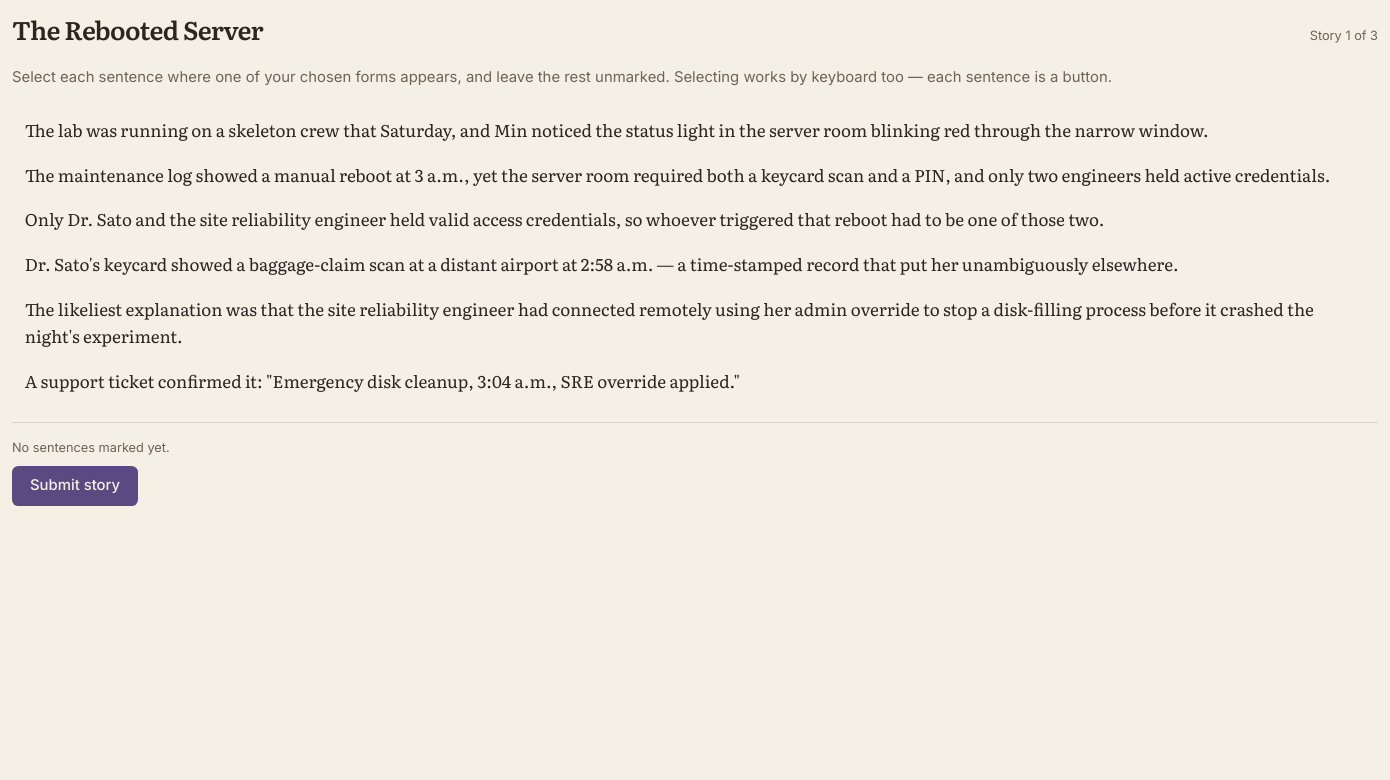
it: StoryReader › walks the full annotate flow: sentence → label → explanation → mark
This screenshot has width=1390, height=780.
Click the button "Only Dr. Sato and the site rel" at (695, 219), box [12,199,1378,239]
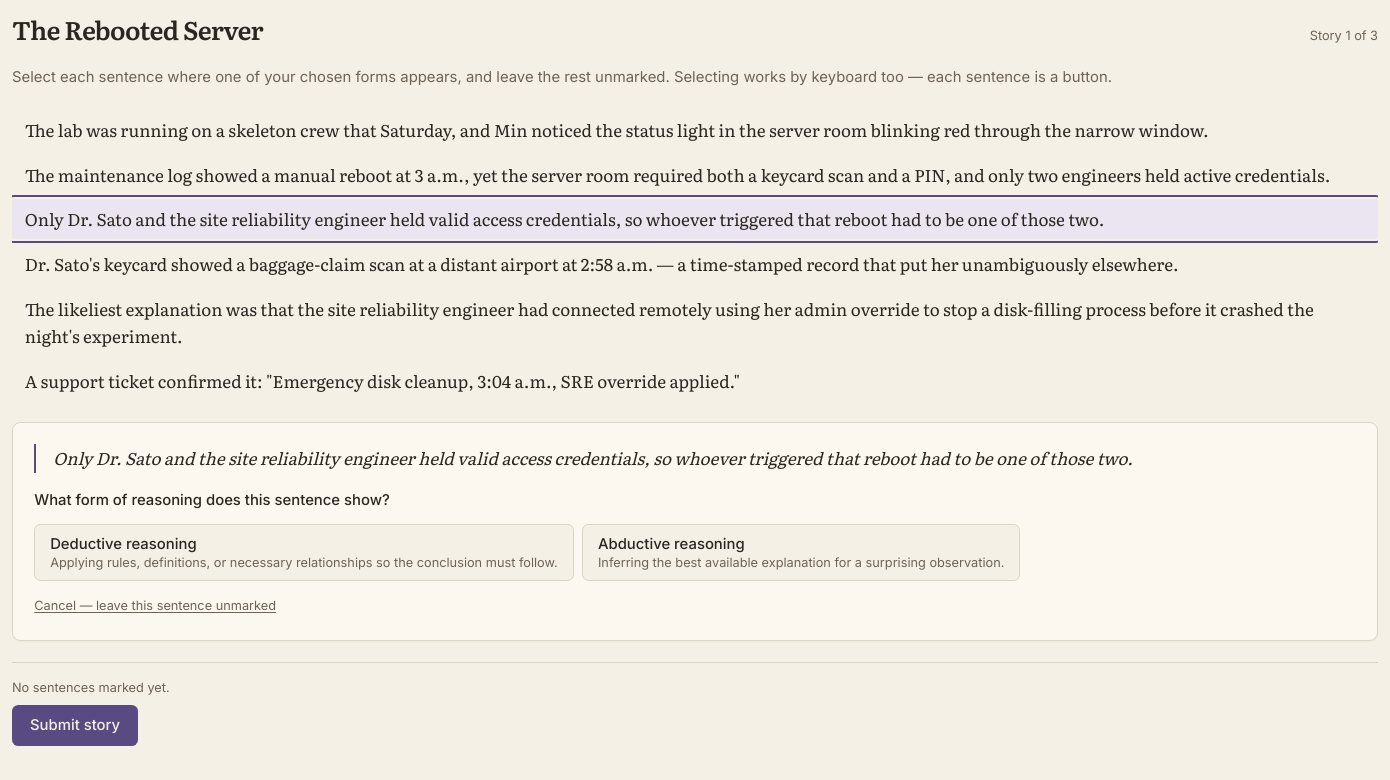
expect the text "What form of reasoning does this sentence show?" is shown: met, box [34,490,390,512]
Click the button "Deductive reasoning" at (304, 553), box [34,524,574,582]
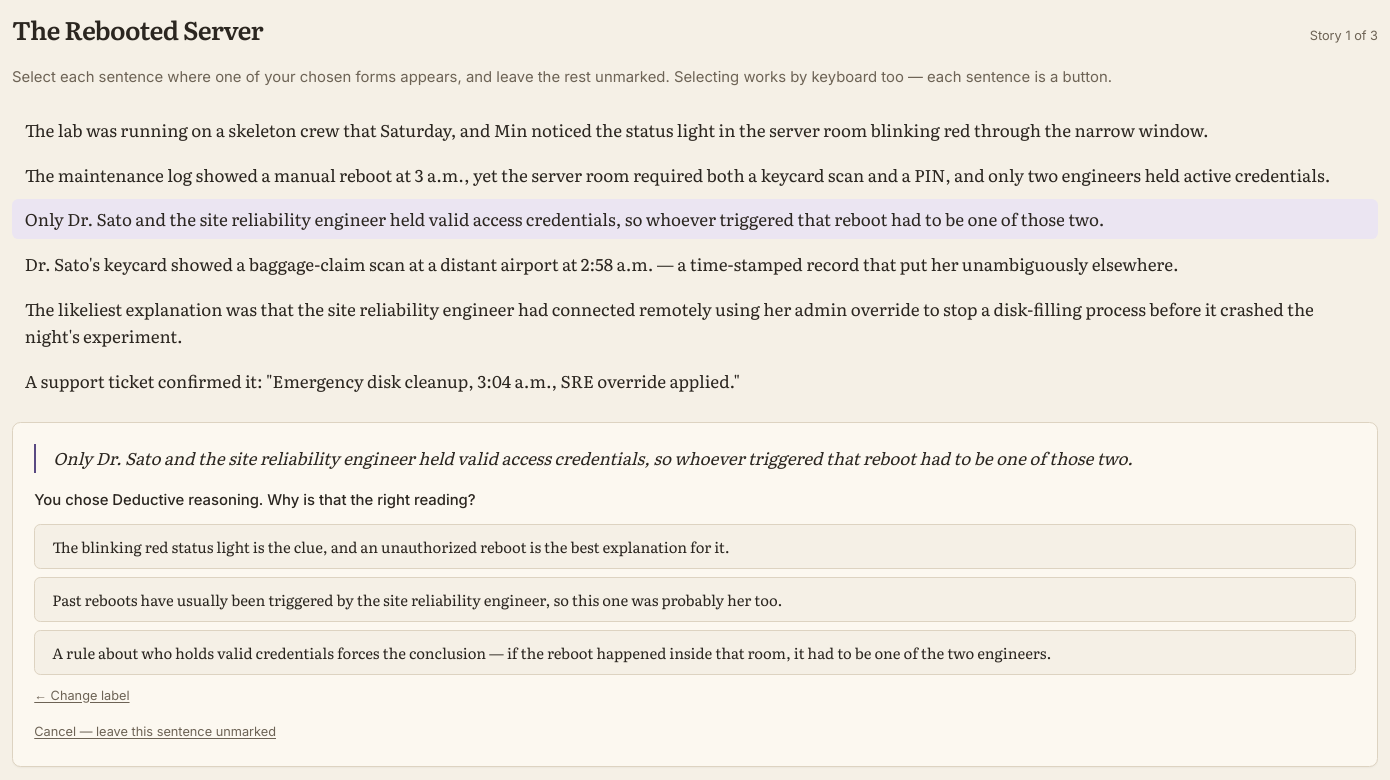
expect the text "Why is that the right reading" is shown: met, box [259,491,476,509]
Click the button "A rule about who holds valid c" at (695, 653), box [34,630,1356,675]
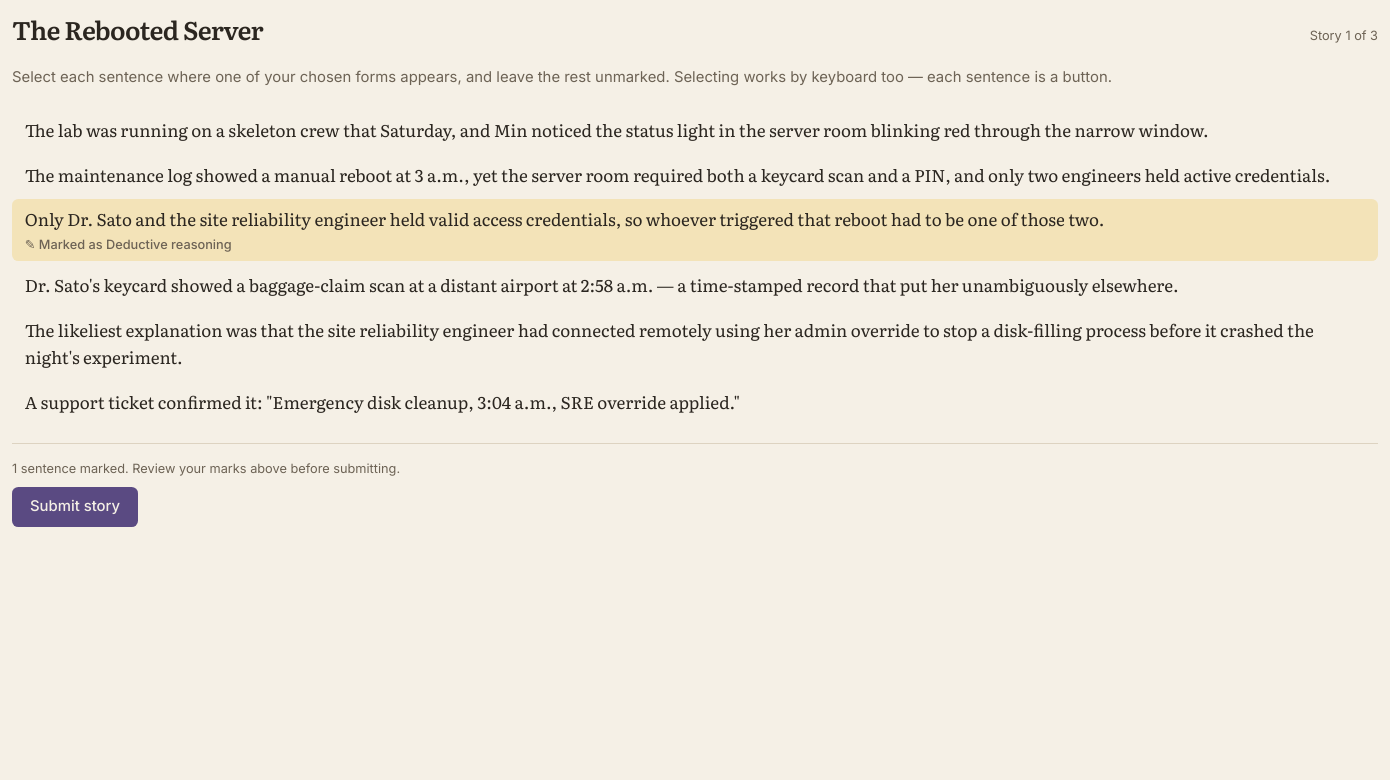
expect the text "1 sentence marked" is shown: met, box [12,461,400,476]
expect the text "✎ Marked as Deductive reasoning" is shown: met, box [25,237,232,252]
